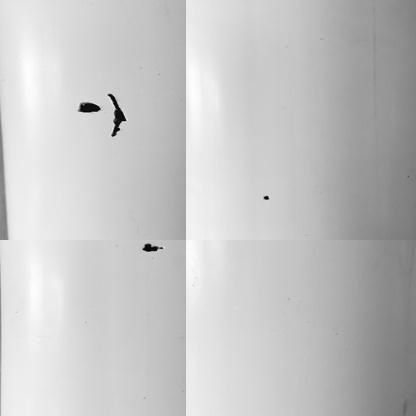kongdong: (106, 91, 127, 140), (77, 99, 100, 116), (140, 242, 165, 254), (261, 193, 271, 204)
